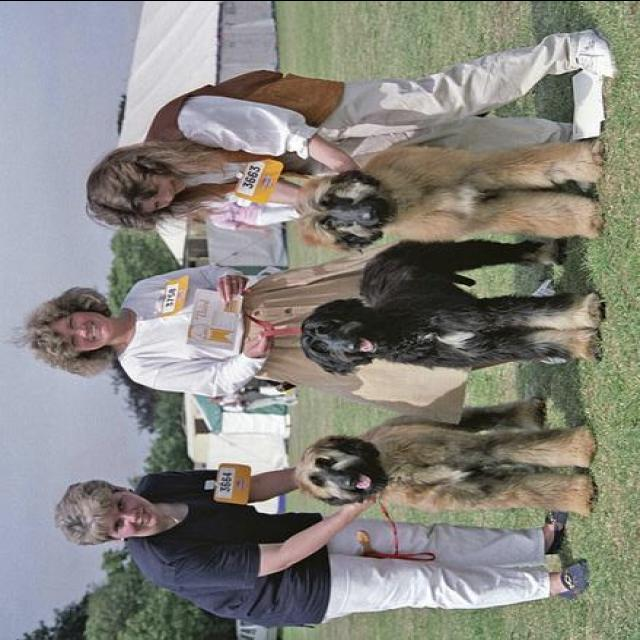afghan_hound: (301, 239, 604, 375), (292, 394, 596, 518), (292, 136, 606, 254)
